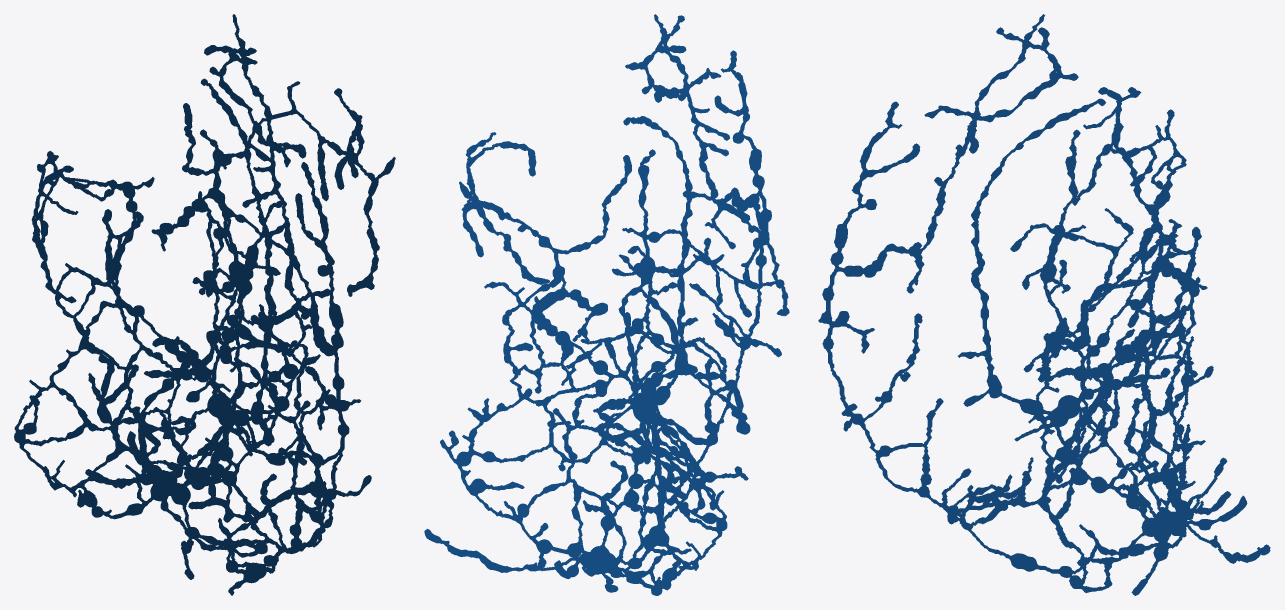
File: venous-venat.glb
The picture shows the model from 3 angles, left to right: view 1: azimuth 30°, elevation 25°; view 2: azimuth 150°, elevation 25°; view 3: azimuth 270°, elevation 25°; orthographic projection. The views are drawn at different scales.
Visible parts, largest first — view 1: venous-venat; view 2: venous-venat; view 3: venous-venat.
Part boxes in pixels (<box>): venous-venat: <box>14,14,395,595</box>; venous-venat: <box>424,14,789,595</box>; venous-venat: <box>818,14,1270,595</box>.
Size of the model in its own units: 101 by 159 by 116.
